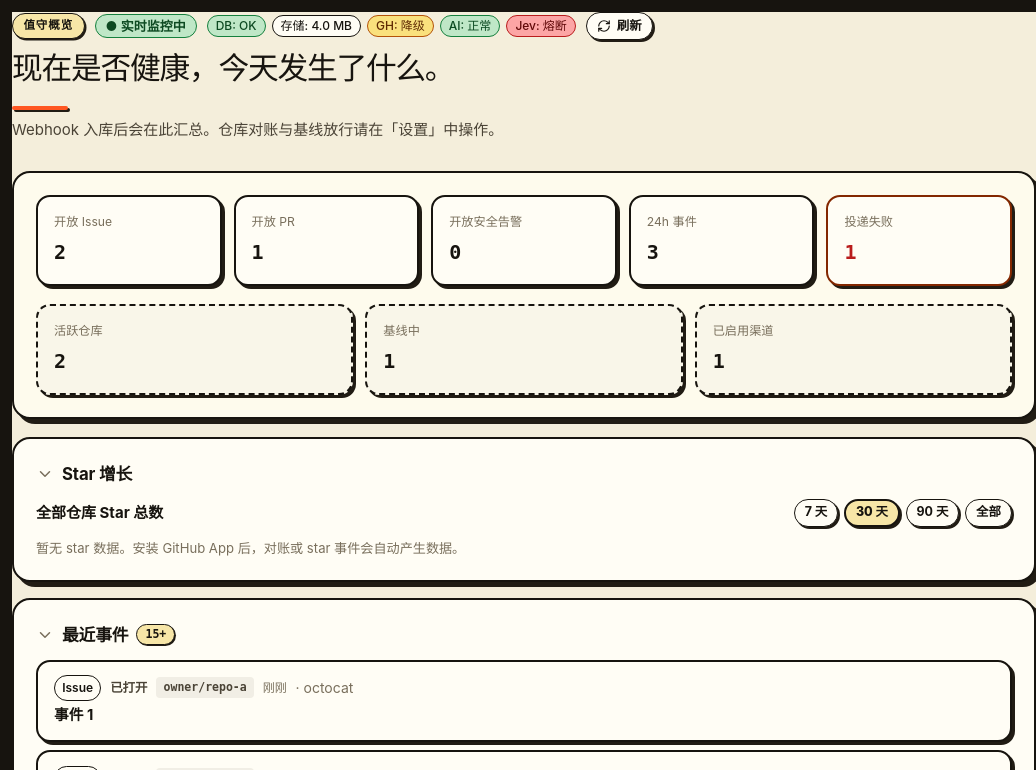
Test: GitHub 配额诊断 › 探针失败时显示未知配额并提供对应提示：github_app_no_active_installation
Focus the text "GH: 降级". click: (400, 26)
box: [367,15,434,37]
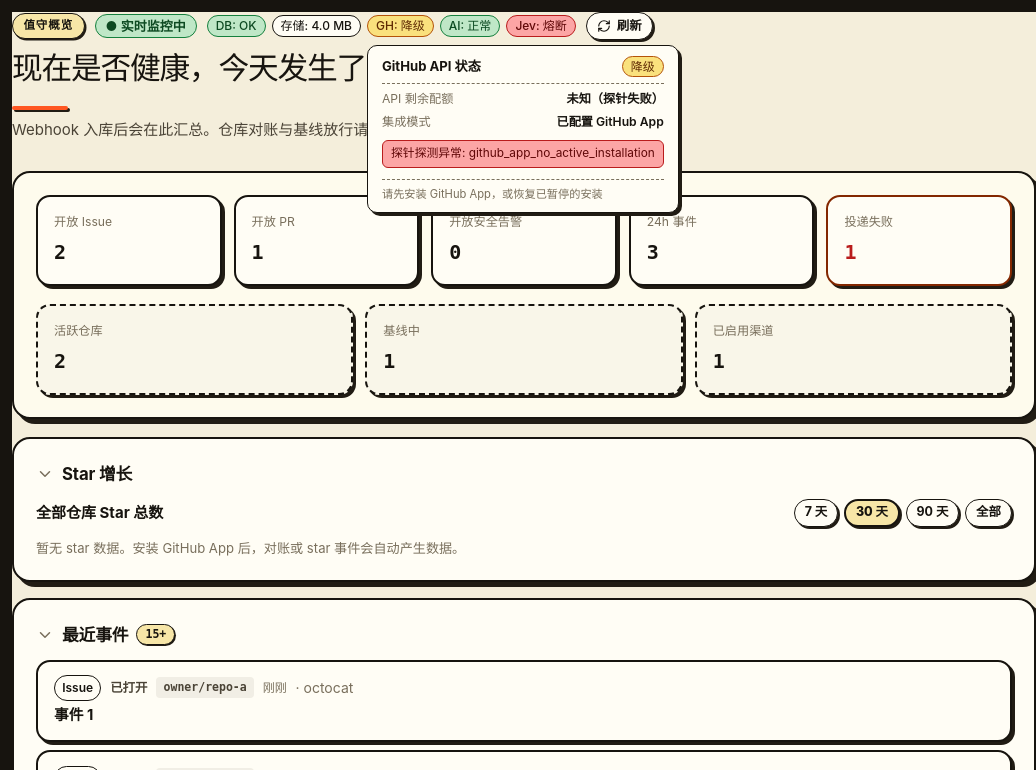
Check: the text "未知（探针失败）" is shown, box [566,90,664,108]
Check: the text "请先安装 GitHub App，或恢复已暂停的安装" is shown, box [382,179,664,202]
